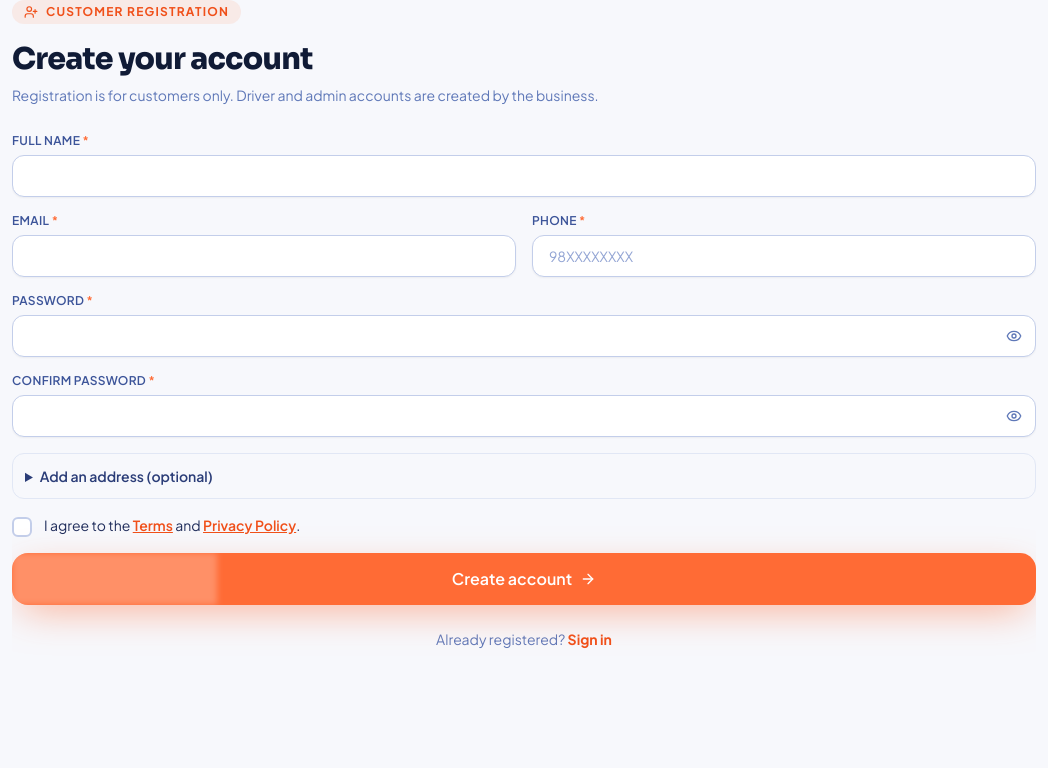
it: registration form › requires every mandatory field and consent
Click the button "Create account". click: [524, 579]
box: [12,553,1036,605]
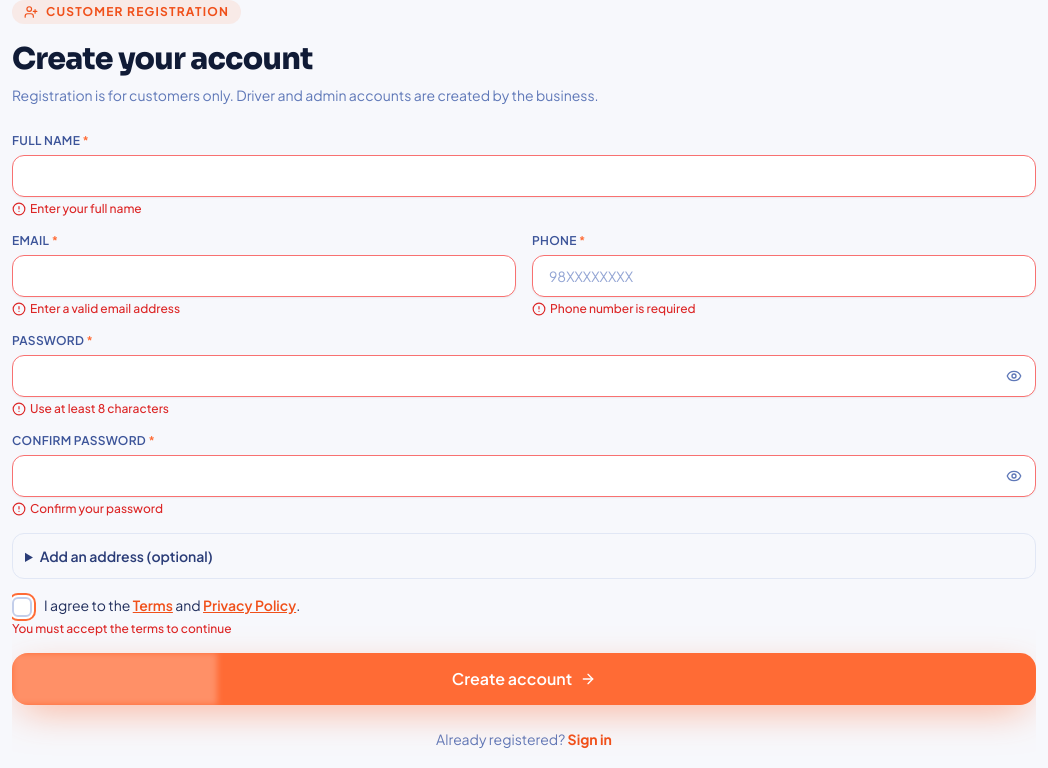
Expected: the text "Enter your full name" is shown, [12,201,142,216]
Expected: the text "Enter a valid email address" is shown, [12,301,180,316]
Expected: the text "Phone number is required" is shown, [532,301,696,316]
